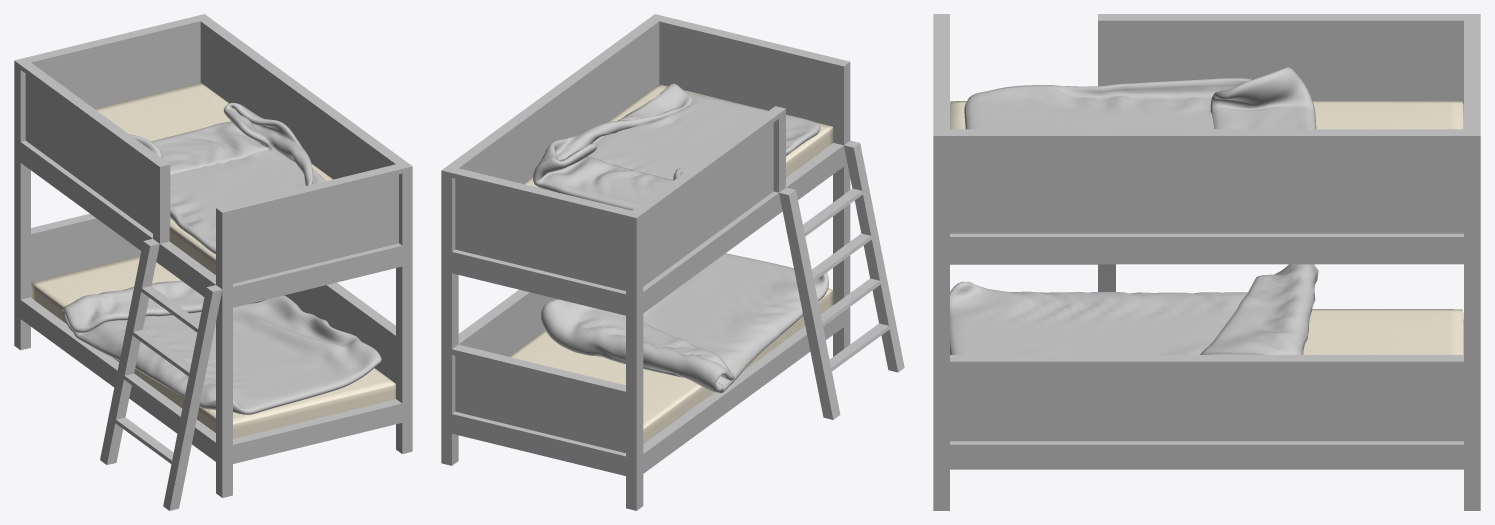
Rendered from Bed25.fbx.
3 renders of one model, left to right at view 1: azimuth 30°, elevation 25°; view 2: azimuth 150°, elevation 25°; view 3: azimuth 270°, elevation 25°, orthographic. The views are drawn at different scales.
Visible parts, largest first — view 1: BedFrame25, Blanket25_1, Blanket25_2, Mattress25_1, Mattress25_2; view 2: BedFrame25, Blanket25_1, Blanket25_2, Mattress25_1, Mattress25_2; view 3: BedFrame25, Blanket25_1, Blanket25_2, Mattress25_1, Mattress25_2.
Part boxes in pixels (left/top/right/bottom): BedFrame25: left=14, top=14, right=412, bottom=510; Blanket25_1: left=62, top=280, right=381, bottom=414; Blanket25_2: left=129, top=102, right=325, bottom=254; Mattress25_1: left=31, top=256, right=395, bottom=438; Mattress25_2: left=94, top=83, right=332, bottom=274; BedFrame25: left=441, top=14, right=904, bottom=510; Blanket25_1: left=541, top=253, right=828, bottom=392; Blanket25_2: left=533, top=83, right=820, bottom=210; Mattress25_1: left=509, top=288, right=833, bottom=443; Mattress25_2: left=523, top=84, right=833, bottom=188; BedFrame25: left=933, top=14, right=1480, bottom=510; Blanket25_1: left=950, top=264, right=1318, bottom=354; Blanket25_2: left=964, top=67, right=1316, bottom=129; Mattress25_1: left=950, top=309, right=1463, bottom=354; Mattress25_2: left=950, top=101, right=1463, bottom=129.
Size of the model in its own units: 151 by 169 by 224.
